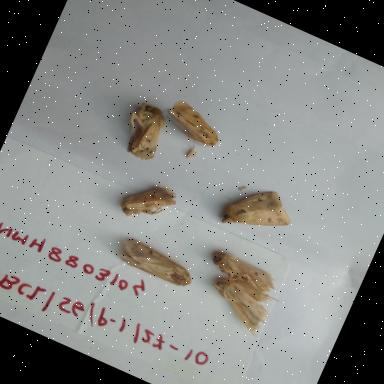abw: (210, 167, 307, 258), (98, 88, 188, 176), (199, 268, 291, 348), (200, 244, 301, 316), (104, 228, 202, 300), (106, 166, 194, 242), (152, 86, 236, 158)
